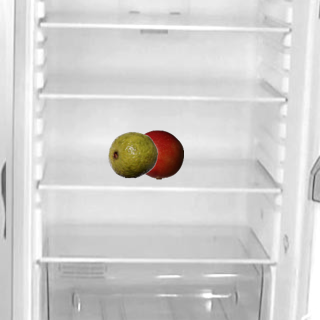Apple Braeburn: (133, 129, 183, 179)
Guava: (107, 129, 157, 179)
